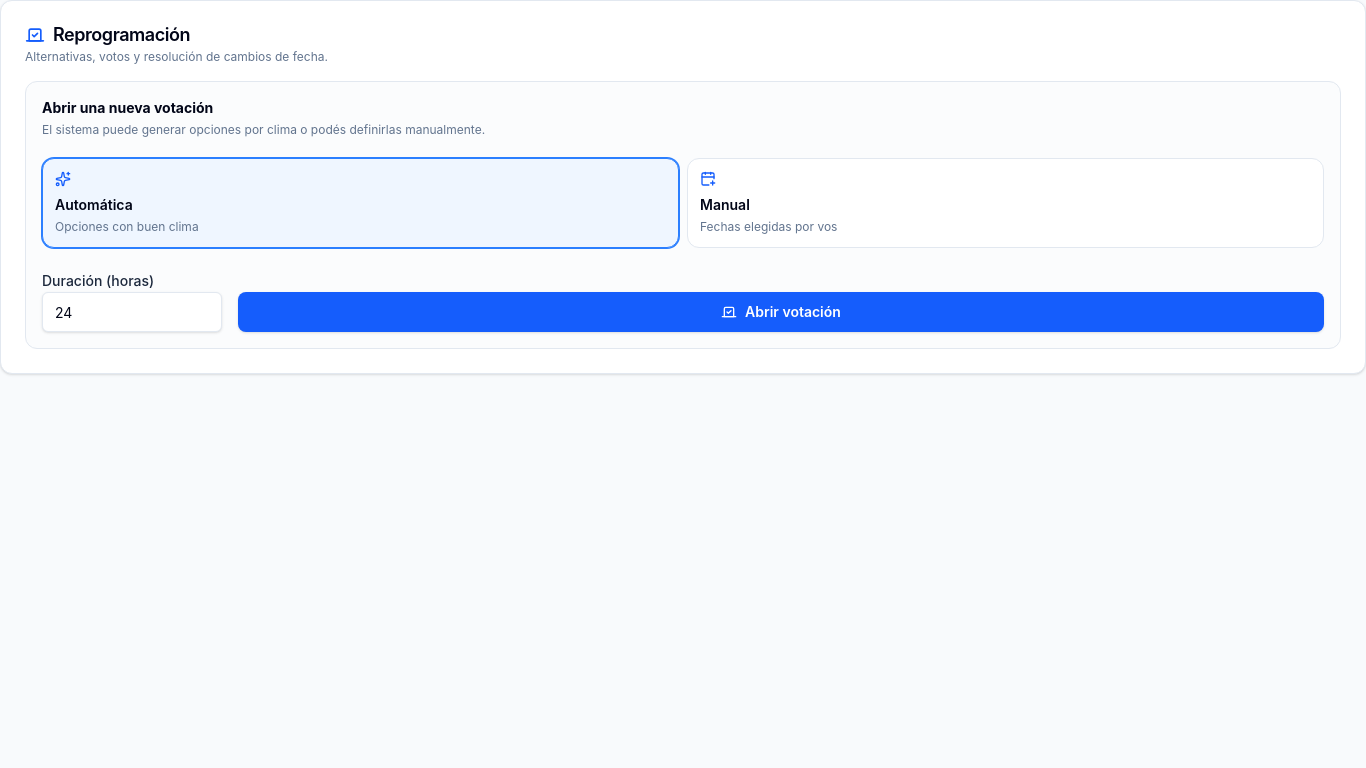
Test: VotingPanel › carga sugerencias climáticas editables para la votación
The width and height of the screenshot is (1366, 768).
Click the button "Manual Fechas elegidas por vos": (725, 204) left=687, top=158, right=1324, bottom=248
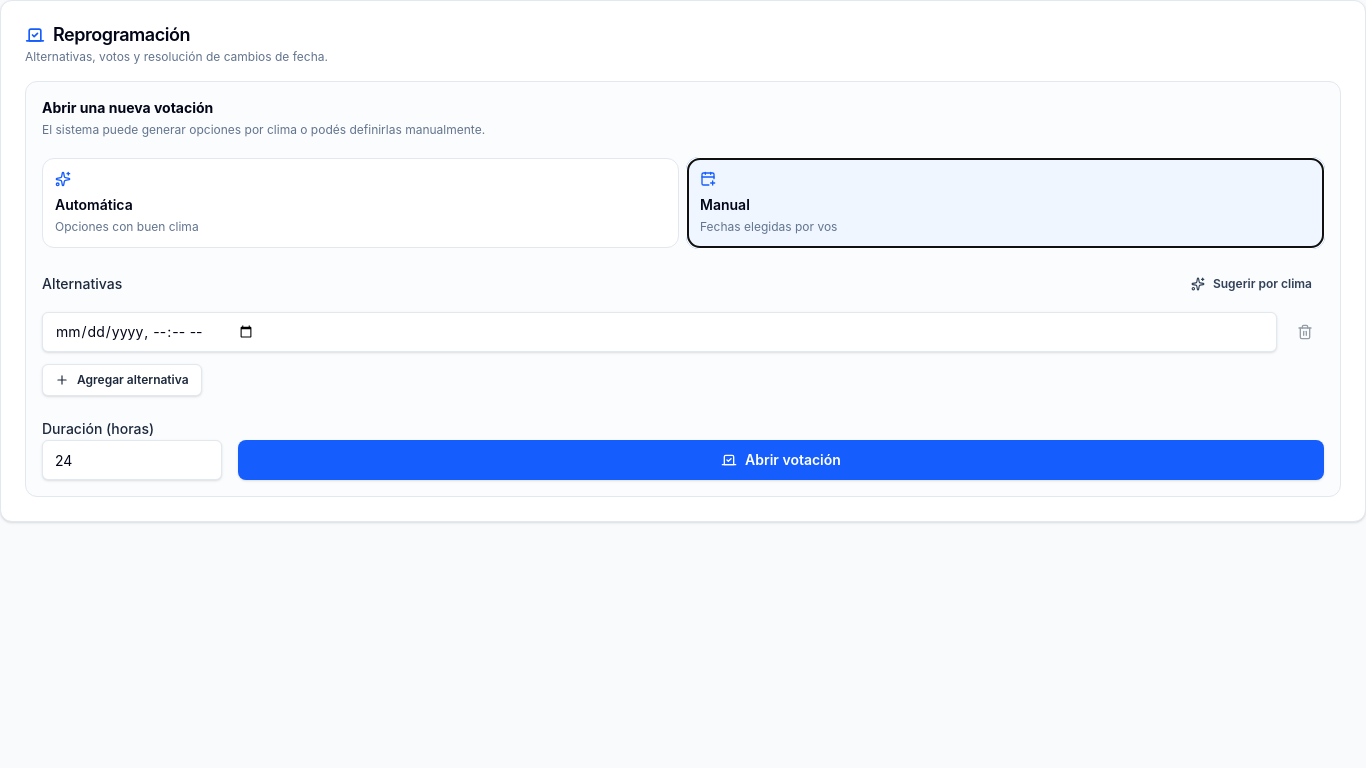
Click the button "Sugerir por clima": (1251, 284) left=1179, top=268, right=1324, bottom=300
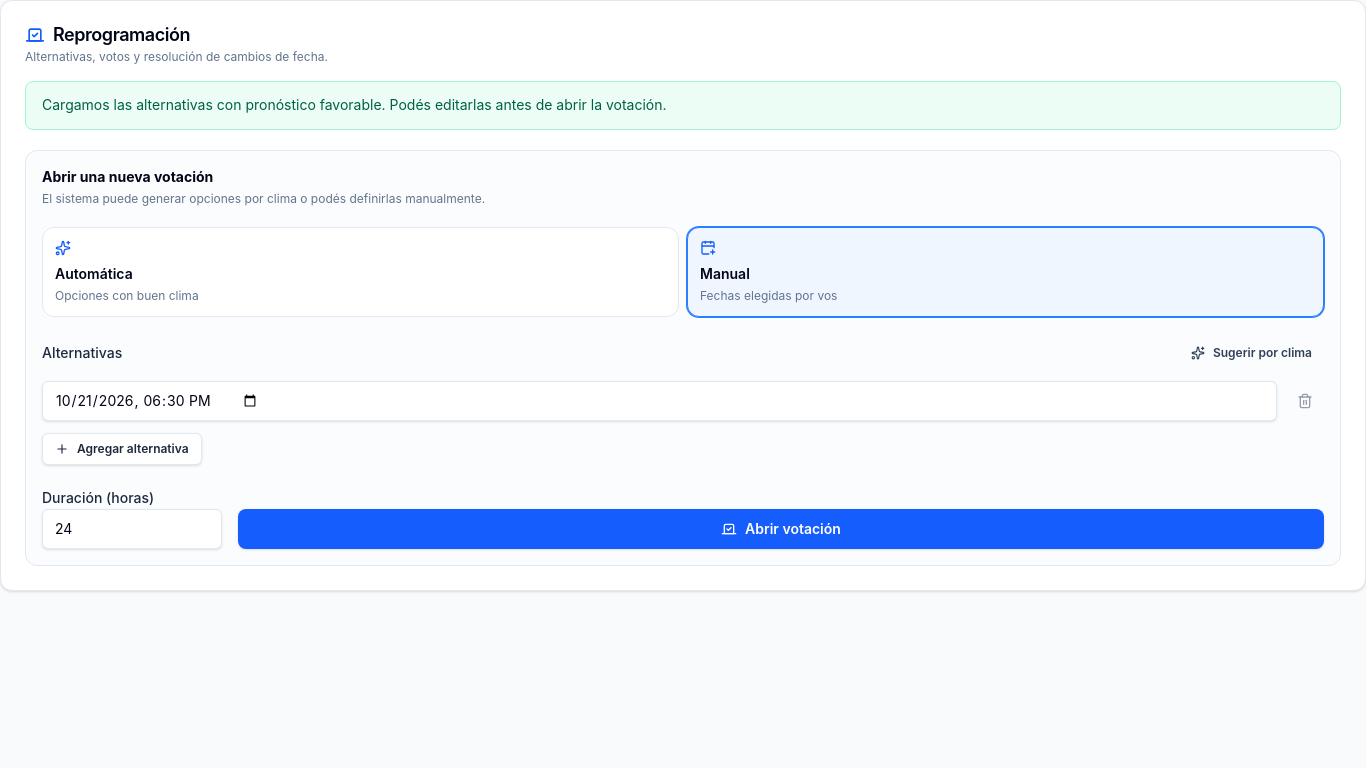
Result: the field named "Alternativa 1" holds "2026-10-21T18:30" at left=42, top=381, right=1278, bottom=421
Result: the text "Cargamos las alternativas con pronóstico favorable" is shown at left=42, top=96, right=667, bottom=113
